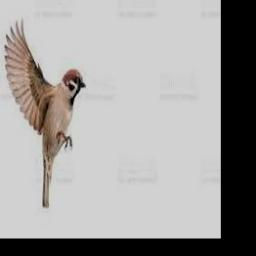Sparrow: (4, 17, 86, 208)
